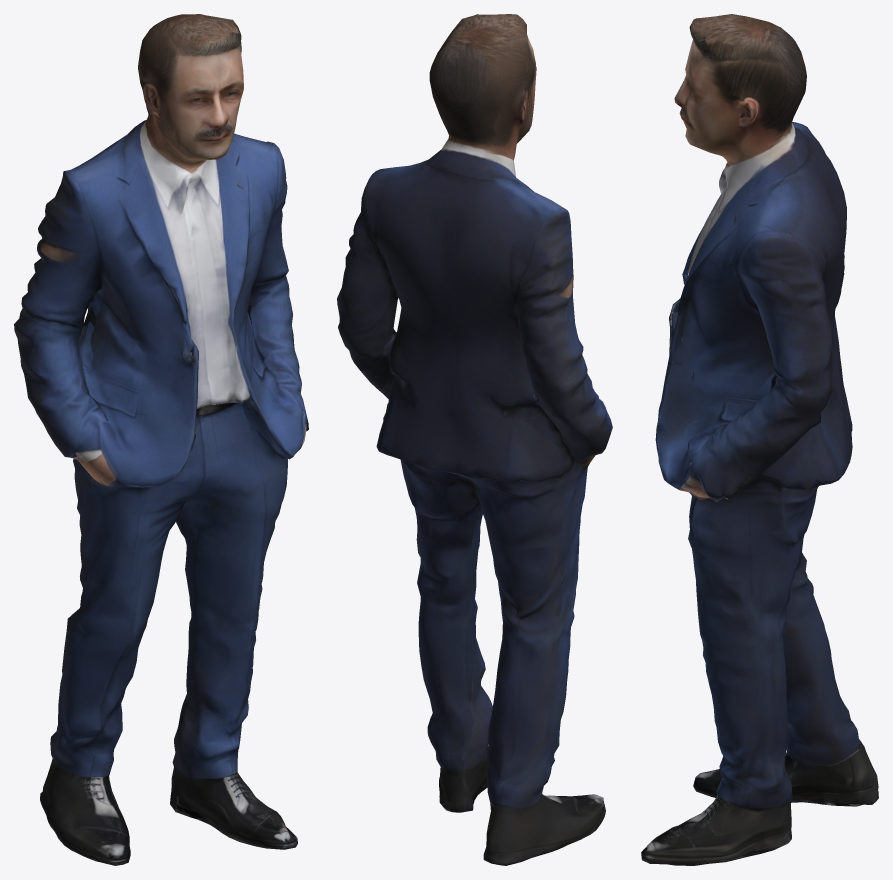
The model's file is male_human_2_static.glb.
3 renders of one model, left to right at view 1: azimuth 30°, elevation 25°; view 2: azimuth 150°, elevation 25°; view 3: azimuth 270°, elevation 25°, orthographic. The views are drawn at different scales.
Visible parts, largest first — view 1: Object_4; view 2: Object_4; view 3: Object_4.
Boxes of the visible parts, <box> form: Object_4: <box>14,14,308,865</box>; Object_4: <box>337,14,612,865</box>; Object_4: <box>641,14,878,865</box>.
Bounding box in the file's own units: 0.6689 × 2 × 0.5288.
Materials: 1 (1 with a texture image).
